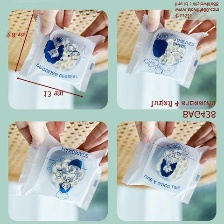snack: (11, 125, 107, 214), (117, 123, 215, 209), (13, 11, 107, 97), (120, 10, 211, 92)
